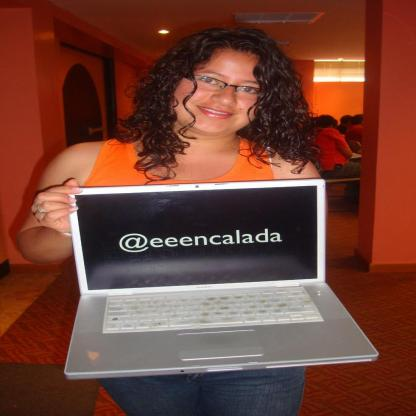board: (63, 178, 378, 378)
